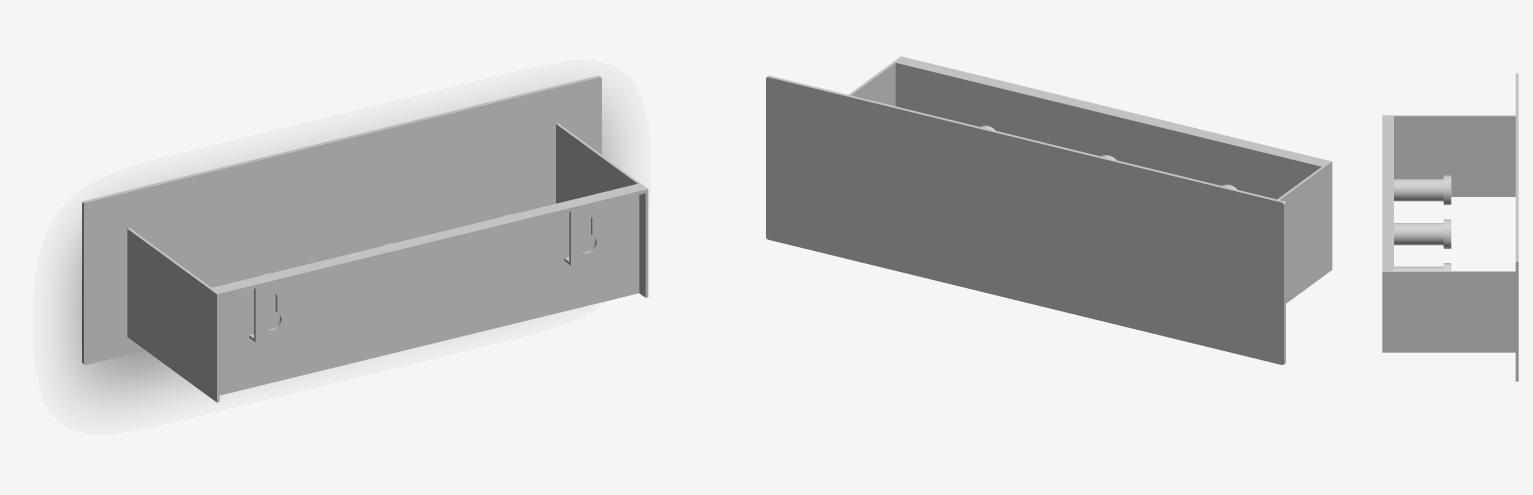
File: skyline-hook.47f63e26c8.ar.glb
3 renders of one model, left to right at view 1: azimuth 30°, elevation 25°; view 2: azimuth 150°, elevation 25°; view 3: azimuth 270°, elevation 25°, orthographic. The views are drawn at different scales.
Parts seen in each view (by area): view 1: NAUO1, object 2; view 2: NAUO1; view 3: NAUO1.
Part boxes in pixels (<box>): NAUO1: <box>82,75,648,402</box>; object 2: <box>67,114,616,396</box>; NAUO1: <box>766,56,1332,364</box>; NAUO1: <box>1382,73,1518,381</box>.
Size of the model in its own units: 0.38 by 0.17 by 0.092.
Materials: 2 (1 with a texture image).
